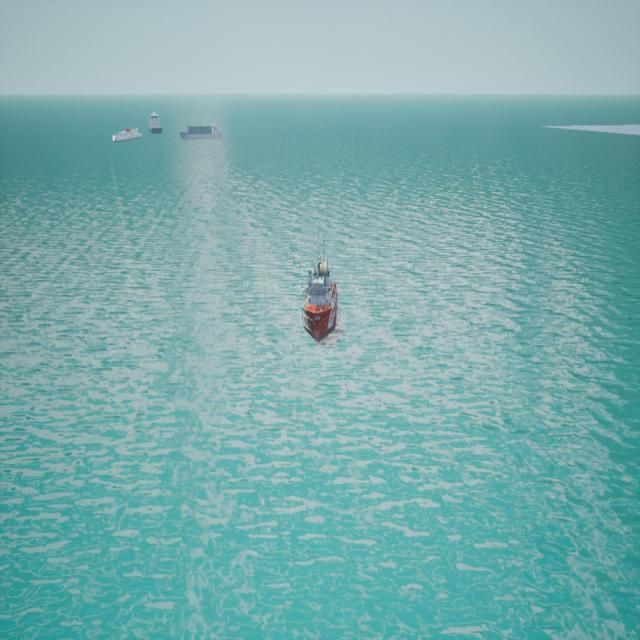tug boat: (304, 261, 338, 344)
